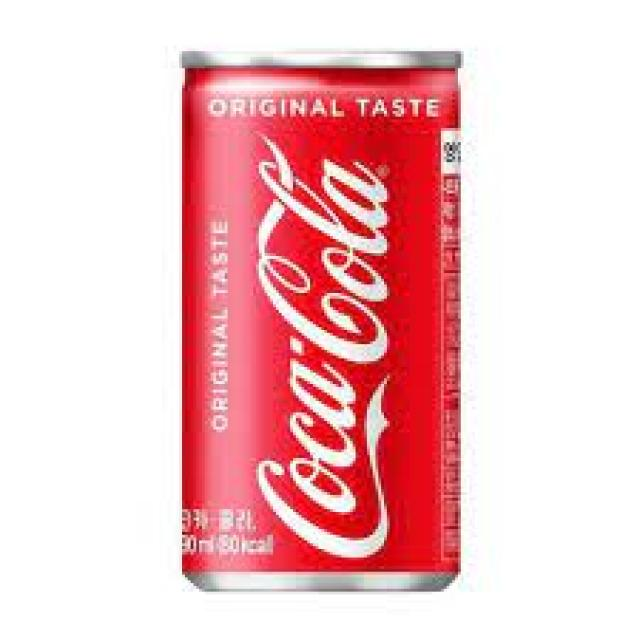Coca-Cola: (174, 26, 468, 595)
